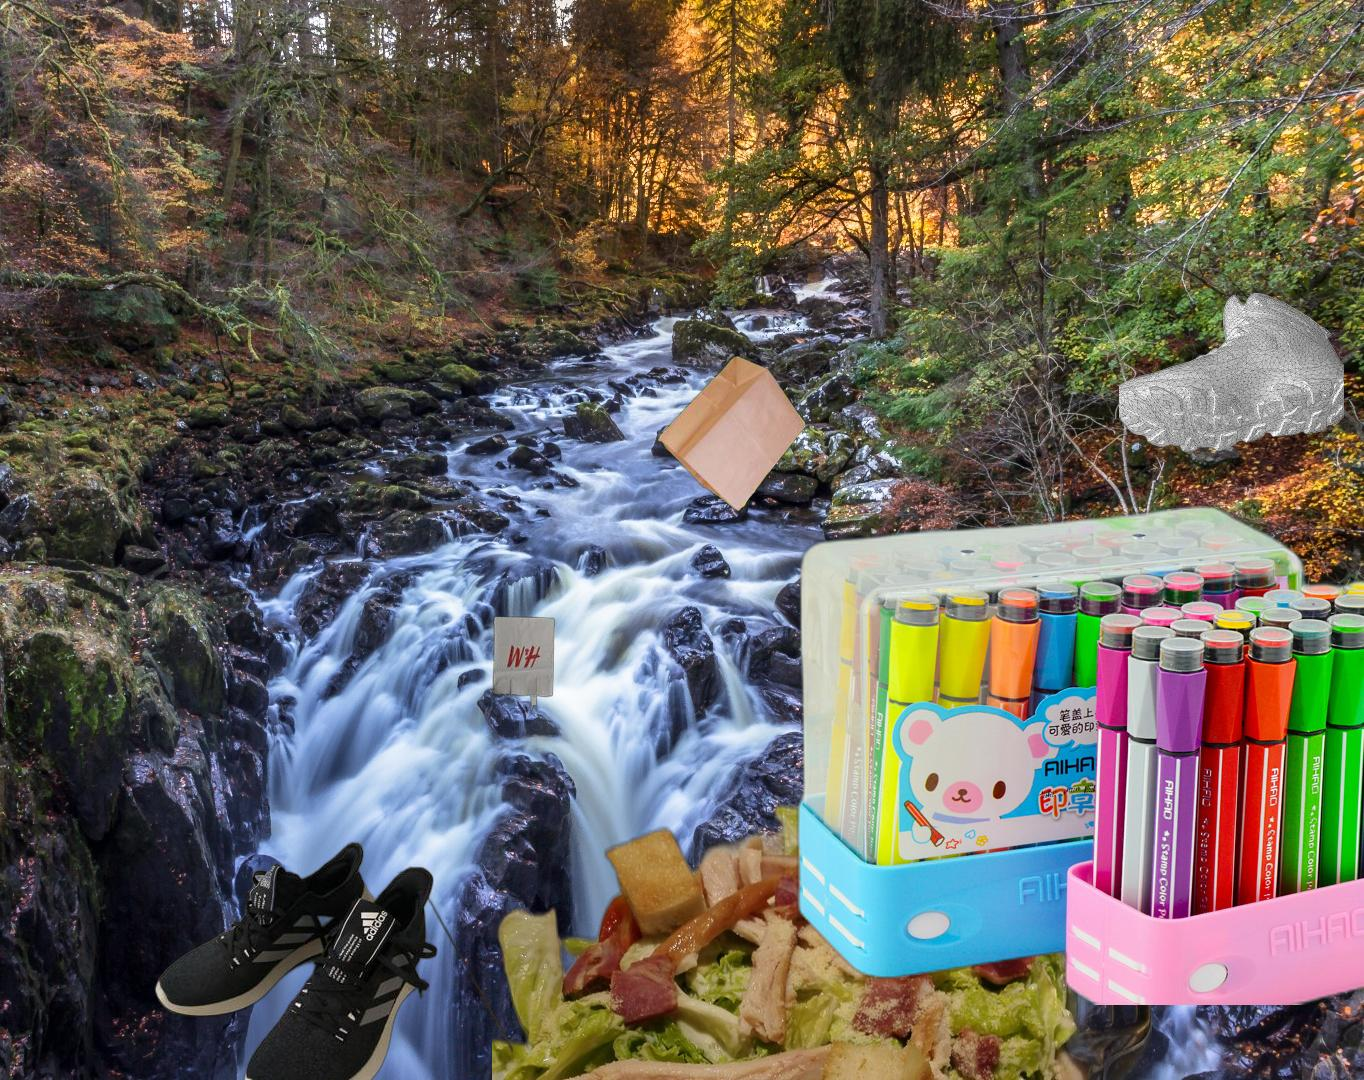biological: (492, 794, 1153, 1080)
paper-bag: (655, 353, 809, 513), (490, 614, 558, 718)
penholder: (790, 263, 1364, 1005)
plastic-bottles: (1288, 714, 1364, 1005)
shoes: (151, 709, 513, 1080), (1119, 290, 1344, 455)
